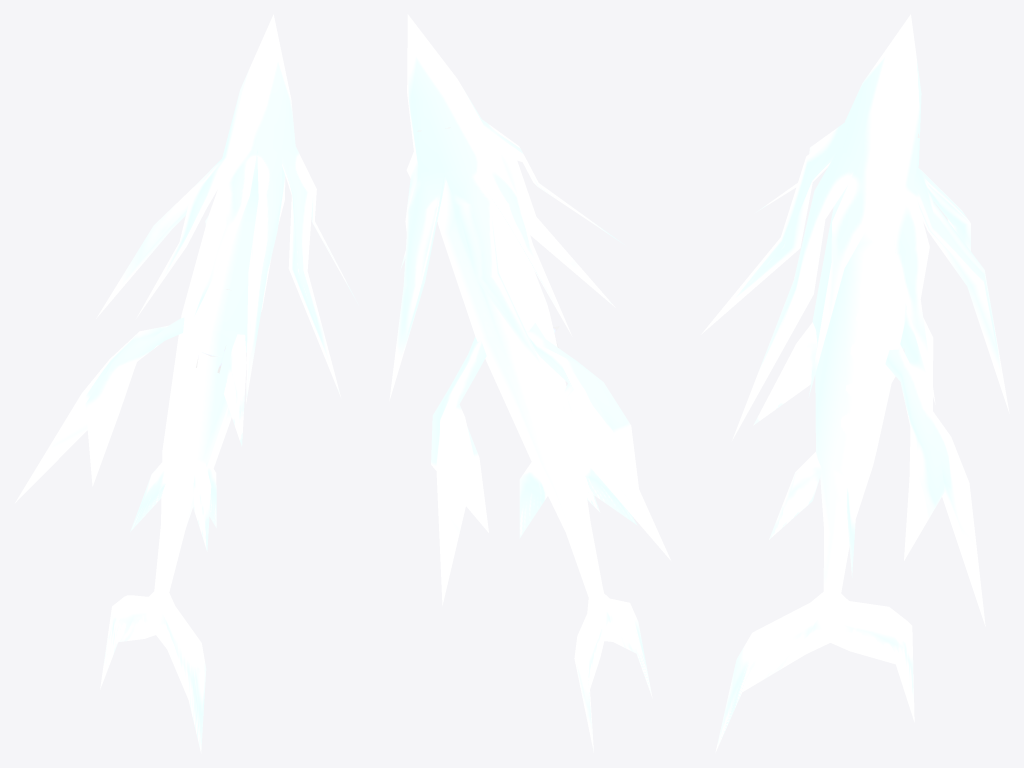
Rendered from sfx_a_ESDfish03.glb.
3 views of the same model, side by side, from view 1: azimuth 30°, elevation 25°; view 2: azimuth 150°, elevation 25°; view 3: azimuth 270°, elevation 25° (orthographic). The views are drawn at different scales.
Visible parts, largest first — view 1: sfx_a_ESDfish03; view 2: sfx_a_ESDfish03; view 3: sfx_a_ESDfish03.
Boxes of the visible parts, x1,y1,x2,y2 form: sfx_a_ESDfish03: (15, 14, 358, 753); sfx_a_ESDfish03: (389, 14, 670, 752); sfx_a_ESDfish03: (701, 14, 1009, 752).
Size of the model in its own units: 9.2 by 19.14 by 6.45.
Materials: 1 (1 with a texture image).
